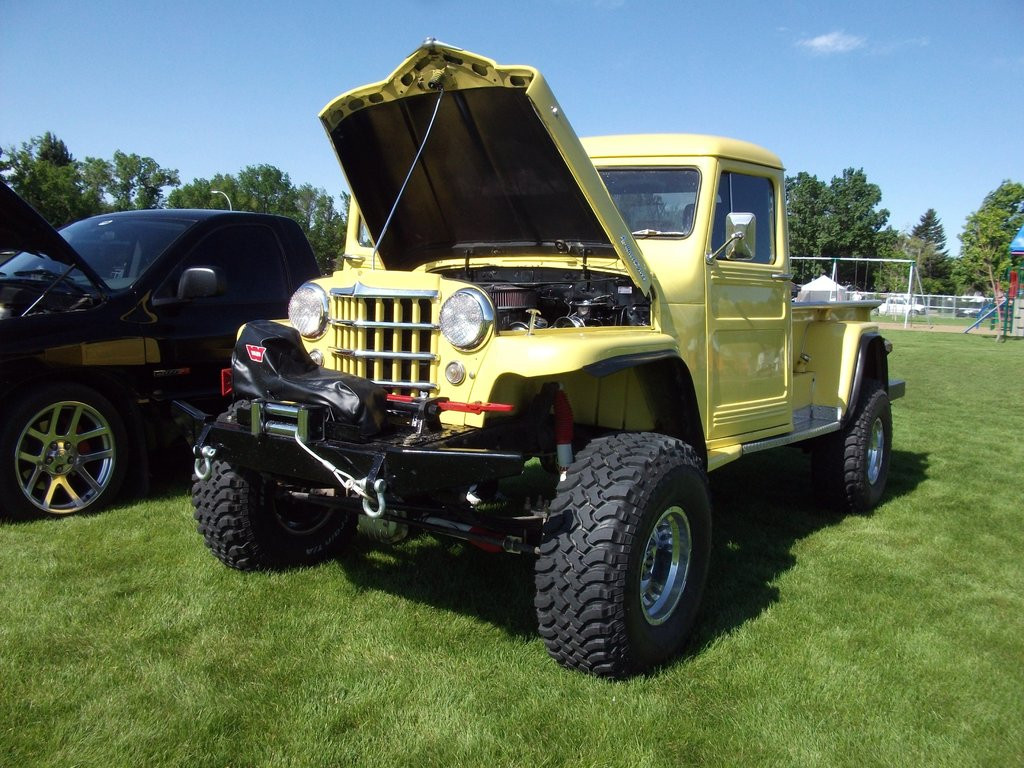cars: (188, 34, 905, 683), (0, 176, 323, 520)
